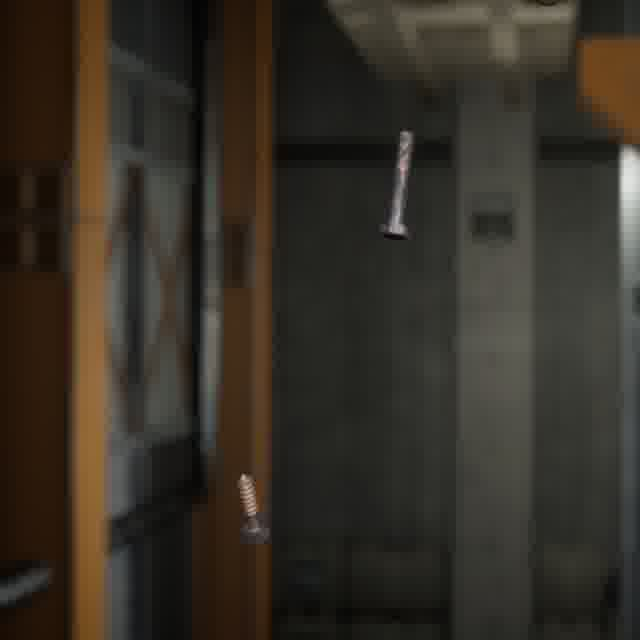bolt: (375, 126, 418, 244), (232, 469, 275, 547)
